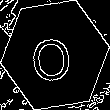O_N: (32, 27, 78, 83)
